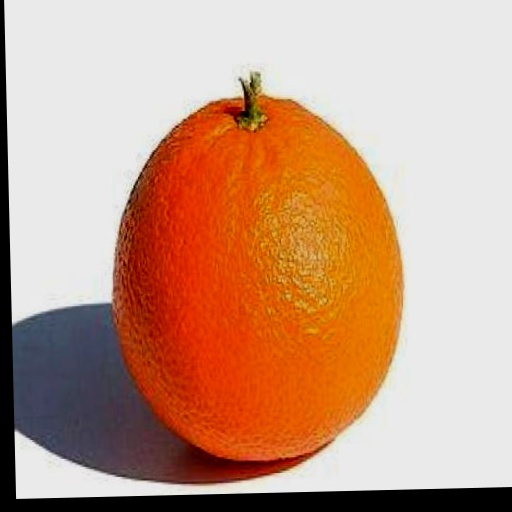fruit: (112, 74, 402, 461)
